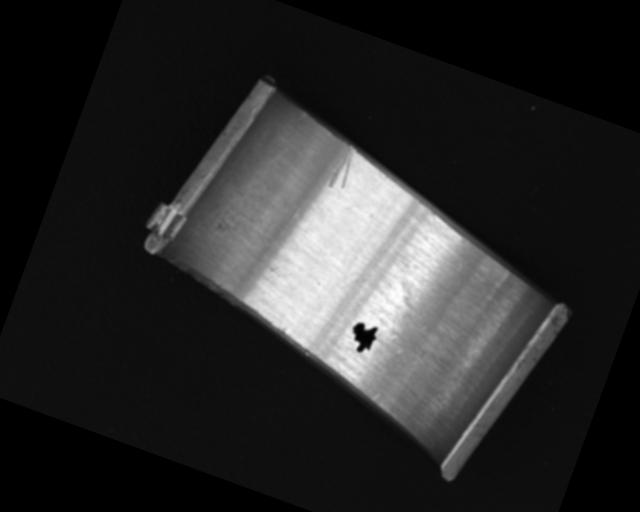blot: (344, 317, 382, 358)
nick: (326, 142, 360, 192), (295, 108, 307, 125)
